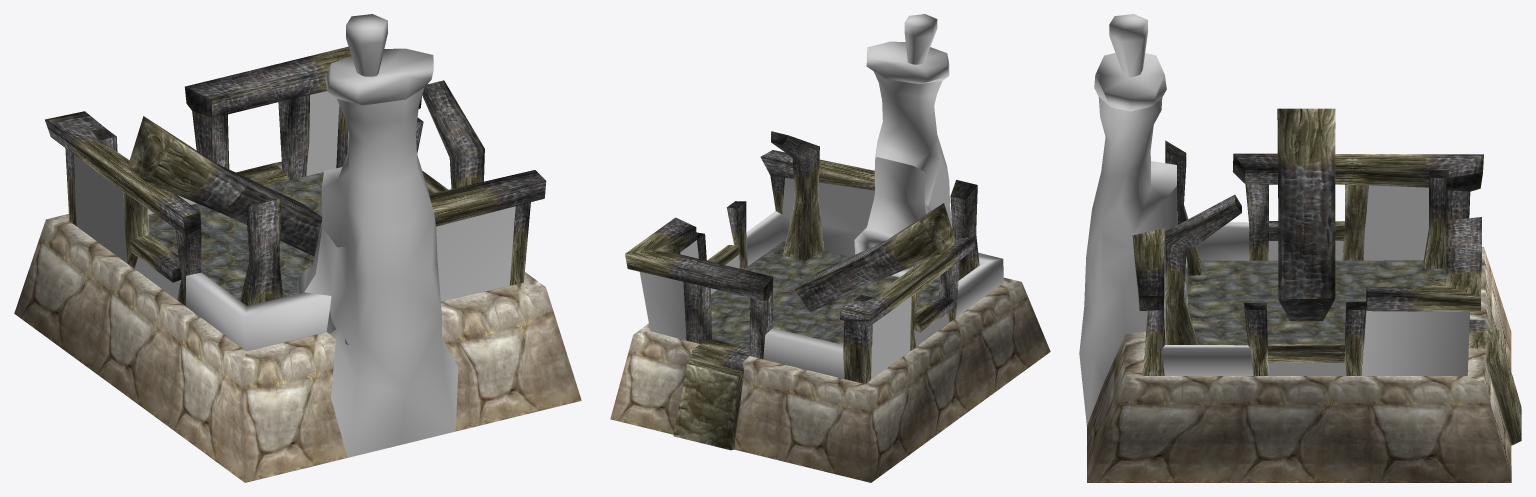
Rendered from duskwoodfarmhouseburnt.obj.
3 views of the same model, side by side, from view 1: azimuth 30°, elevation 25°; view 2: azimuth 150°, elevation 25°; view 3: azimuth 270°, elevation 25° (orthographic). The views are drawn at different scales.
Parts seen in each view (by area): view 1: duskfarmburnt; view 2: duskfarmburnt; view 3: duskfarmburnt.
Part boxes in pixels (x1=…): duskfarmburnt: x1=14, y1=14, x2=581, y2=482; duskfarmburnt: x1=610, y1=14, x2=1050, y2=482; duskfarmburnt: x1=1079, y1=14, x2=1521, y2=482.
Size of the model in its own units: 14.87 by 17.23 by 18.43.
